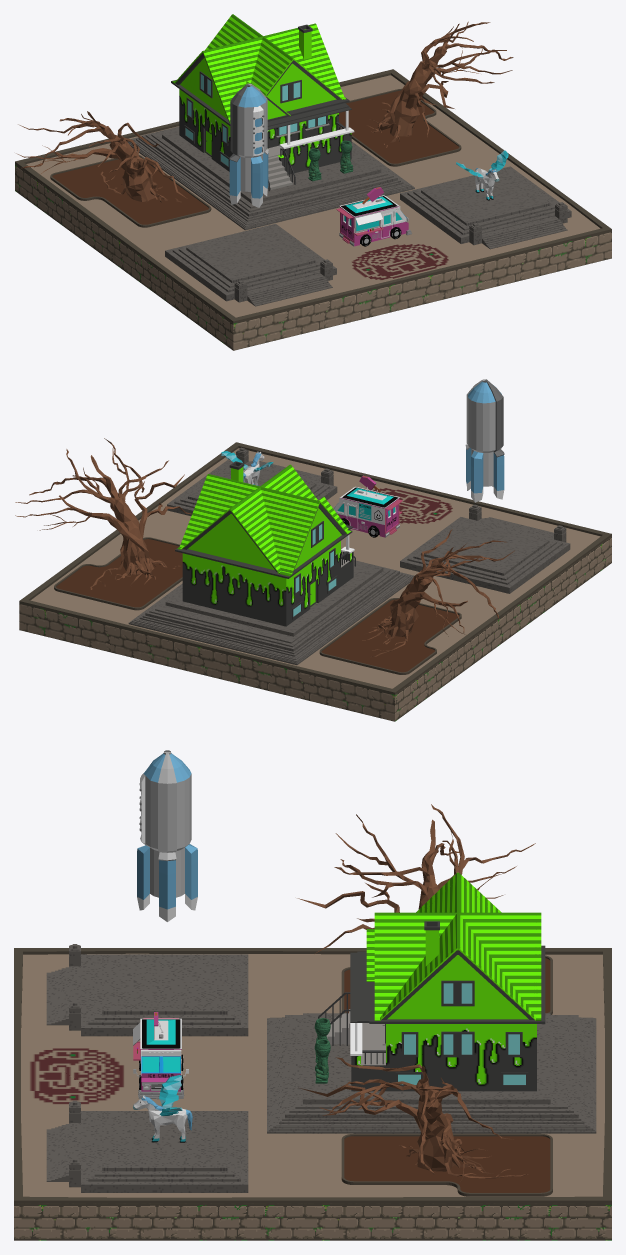
The picture shows the model from 3 angles, top to bottom: view 1: azimuth 30°, elevation 25°; view 2: azimuth 150°, elevation 25°; view 3: azimuth 270°, elevation 25°; orthographic projection. The views are drawn at different scales.
Visible parts, largest first — view 1: Cube.011, Cube.754, OBJRANDOM_ROCKETSHIP, VEHICLES_ICE_CREAM_TRUCK, ANIMAL_PEGASO; view 2: Cube.011, Cube.754, OBJRANDOM_ROCKETSHIP, VEHICLES_ICE_CREAM_TRUCK, ANIMAL_PEGASO; view 3: Cube.011, Cube.754, OBJRANDOM_ROCKETSHIP, VEHICLES_ICE_CREAM_TRUCK, ANIMAL_PEGASO.
Part boxes in pixels (bbox=[...]): Cube.011: bbox=[15, 21, 611, 350]; Cube.754: bbox=[171, 14, 354, 191]; OBJRANDOM_ROCKETSHIP: bbox=[229, 83, 268, 207]; VEHICLES_ICE_CREAM_TRUCK: bbox=[336, 187, 411, 246]; ANIMAL_PEGASO: bbox=[456, 150, 508, 200]; Cube.011: bbox=[15, 438, 611, 721]; Cube.754: bbox=[175, 461, 355, 626]; OBJRANDOM_ROCKETSHIP: bbox=[465, 379, 504, 502]; VEHICLES_ICE_CREAM_TRUCK: bbox=[334, 475, 402, 537]; ANIMAL_PEGASO: bbox=[221, 451, 273, 485]; Cube.011: bbox=[14, 804, 611, 1240]; Cube.754: bbox=[318, 872, 545, 1091]; OBJRANDOM_ROCKETSHIP: bbox=[137, 750, 197, 921]; VEHICLES_ICE_CREAM_TRUCK: bbox=[133, 1012, 188, 1099]; ANIMAL_PEGASO: bbox=[133, 1075, 192, 1142].
Size of the model in its own units: 5099 by 2176 by 4000.
48 materials, 6 textured.
